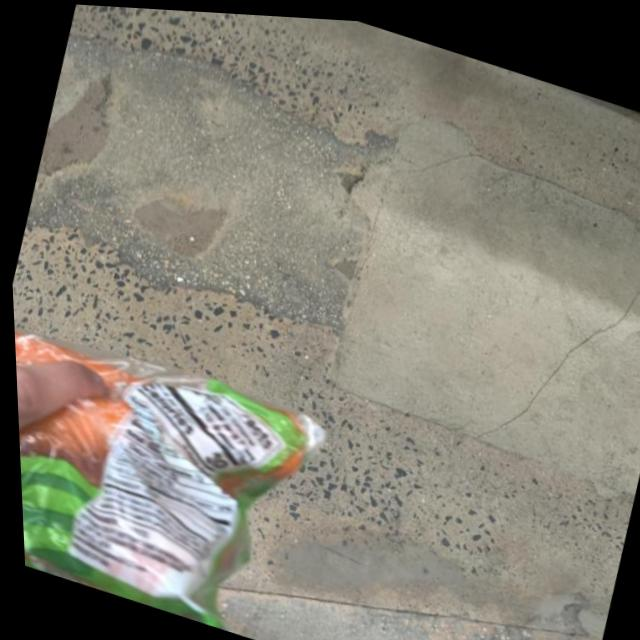Carrots: (11, 322, 334, 640)
